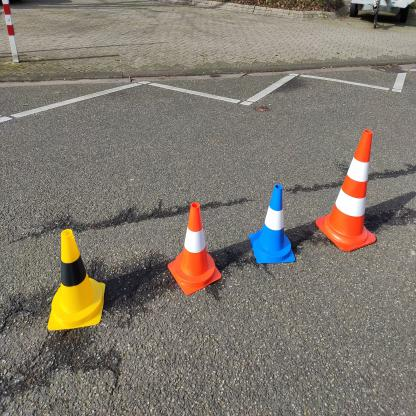Cones_big: (315, 123, 377, 252)
Cones_small_blue: (245, 179, 299, 270)
Cones_small_orange: (164, 196, 227, 298)
Cones_small_yellow: (37, 217, 110, 334)
